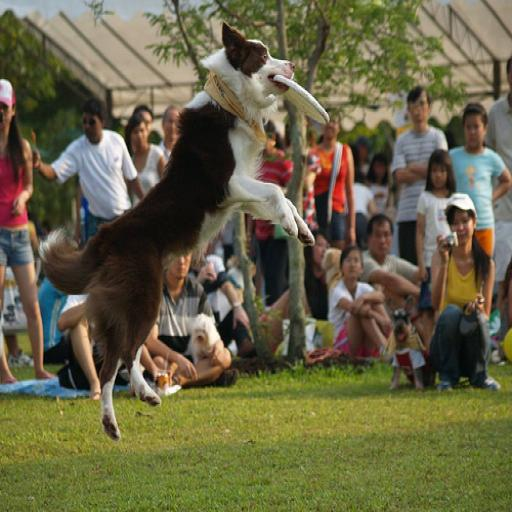animal: (36, 18, 318, 442), (382, 294, 429, 392), (187, 310, 225, 370)
person: (0, 77, 55, 382), (36, 95, 146, 240), (447, 101, 512, 322), (432, 191, 502, 394), (150, 245, 239, 391), (394, 86, 448, 270), (327, 244, 391, 365), (414, 145, 458, 307), (360, 215, 419, 325), (310, 106, 355, 248), (124, 114, 167, 204)
